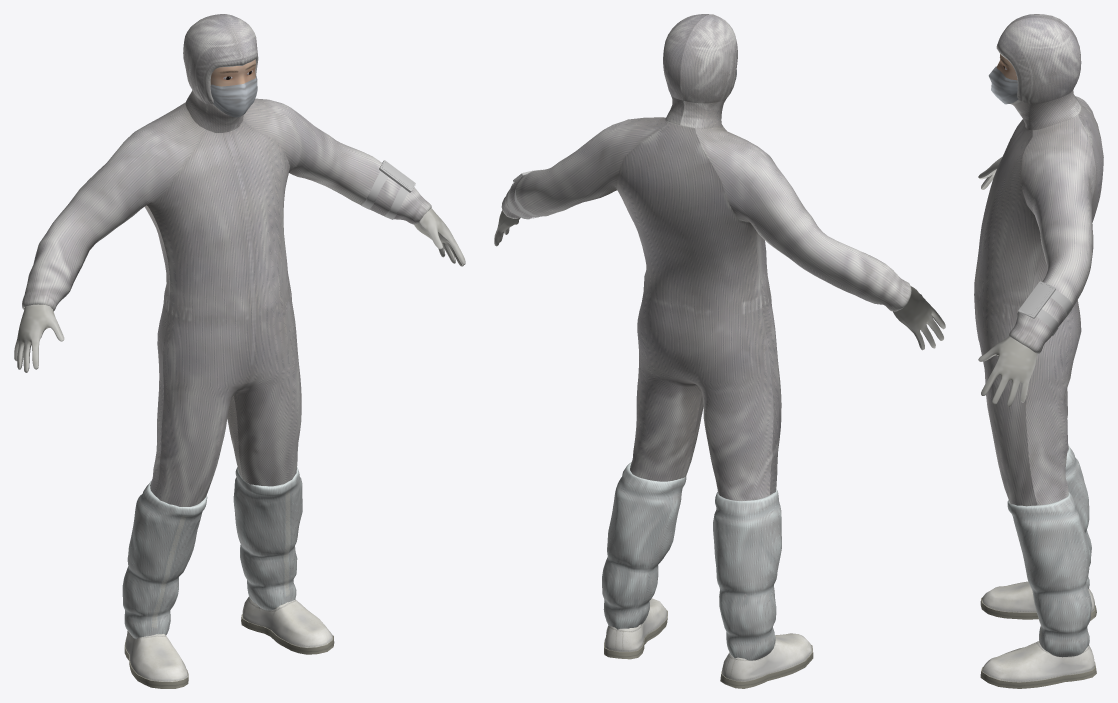
File: man.fbx
The picture shows the model from 3 angles, left to right: view 1: azimuth 30°, elevation 25°; view 2: azimuth 150°, elevation 25°; view 3: azimuth 270°, elevation 25°; orthographic projection.
Parts seen in each view (by area): view 1: suit001; view 2: suit001; view 3: suit001.
Part boxes in pixels (x1,y1,x2,y2): suit001: (14, 14, 465, 688); suit001: (494, 14, 945, 688); suit001: (974, 14, 1103, 688).
Size of the model in its own units: 134 by 34.59 by 184.
